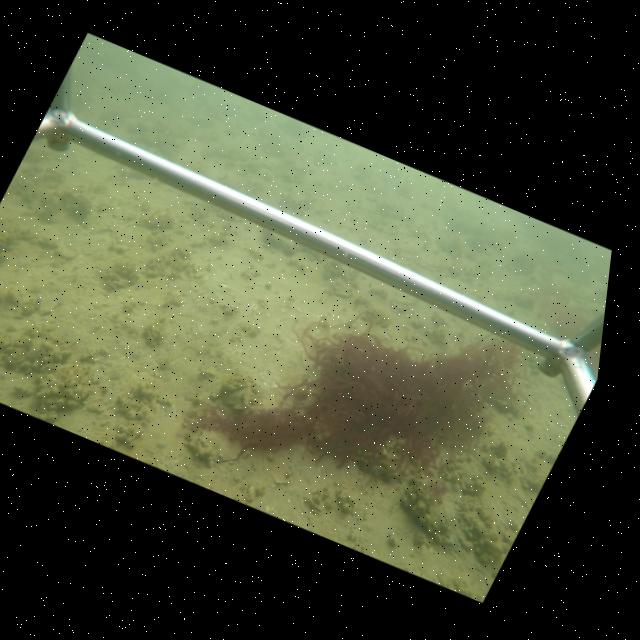Oyster-Closed: (405, 477, 470, 550)
Oyster-Indeterminate: (51, 238, 78, 261)
